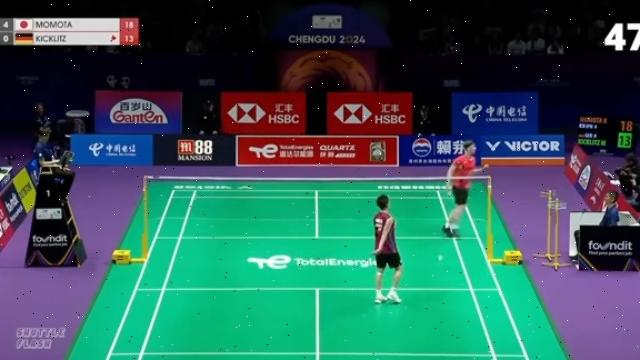Shuttlecock: (434, 251, 446, 263)
